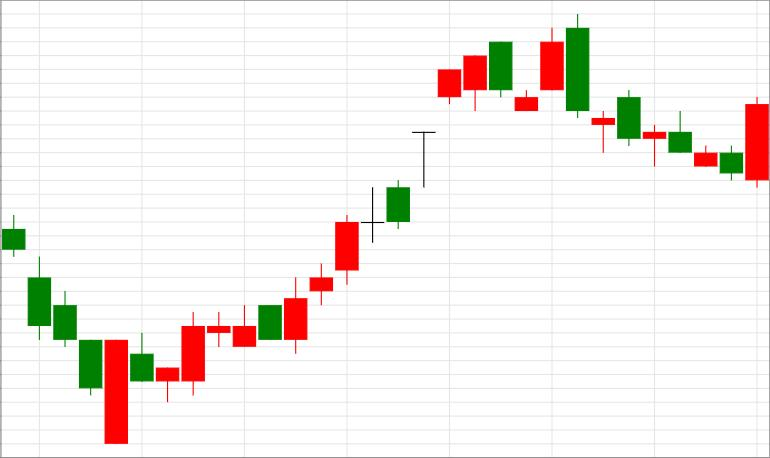bullish_engulfing_rise: (2, 214, 128, 444), (618, 89, 769, 188)
